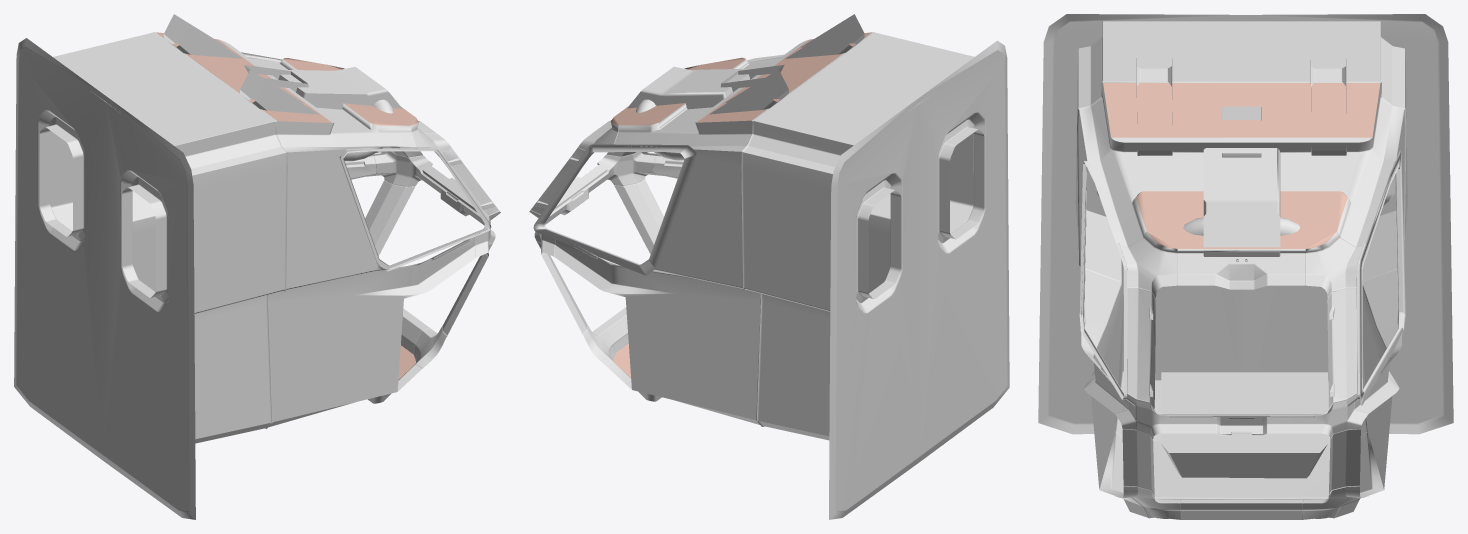
File: SM_SpaceShip.fbx
3 views of the same model, side by side, from view 1: azimuth 30°, elevation 25°; view 2: azimuth 150°, elevation 25°; view 3: azimuth 270°, elevation 25° (orthographic). The views are drawn at different scales.
Visible parts, largest first — view 1: Frame; view 2: Frame; view 3: Frame.
Part boxes in pixels (left/top/right/bottom): Frame: left=14, top=14, right=500, bottom=519; Frame: left=529, top=14, right=1009, bottom=519; Frame: left=1038, top=14, right=1453, bottom=519.
Size of the model in its own units: 358 by 365 by 309.
